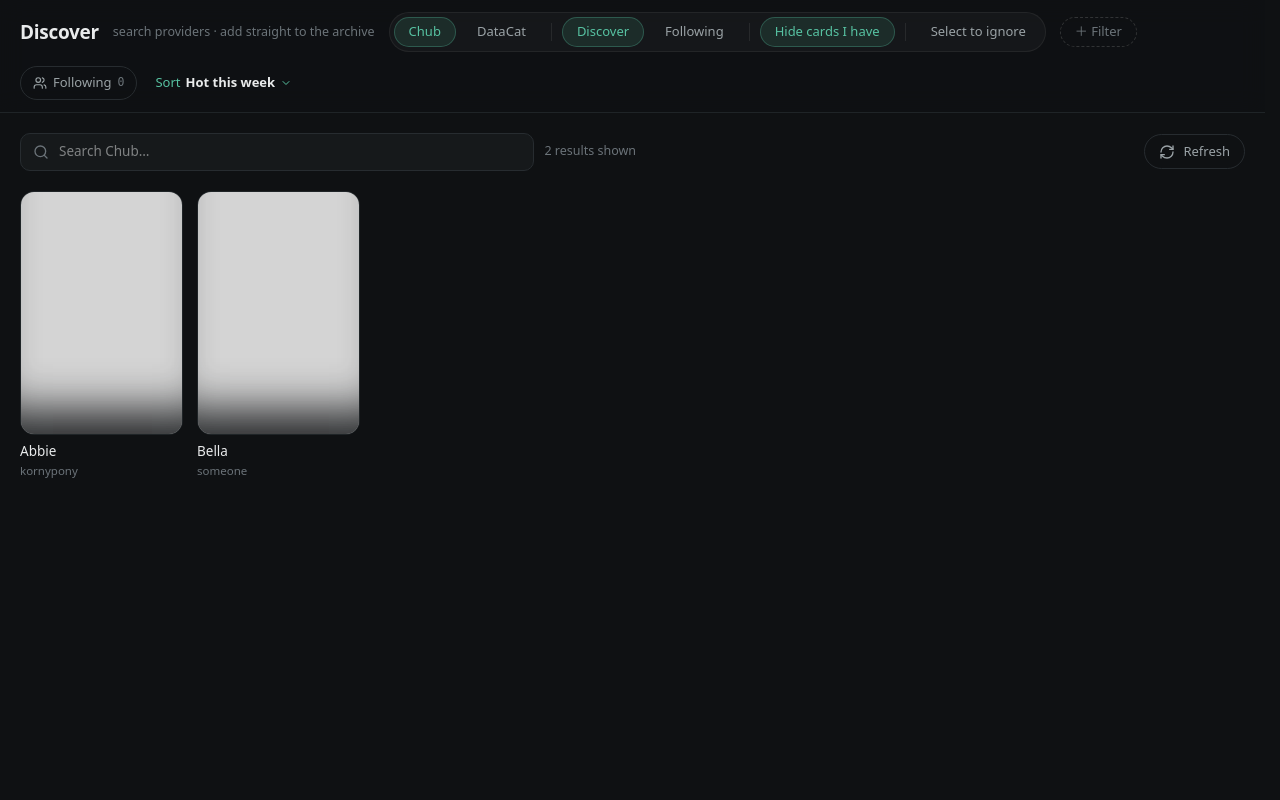
Test: marking cards ignored › posts the selected provider ids and hides them
The width and height of the screenshot is (1280, 800).
Expected: the heading "Abbie" is shown, [20, 442, 56, 460]
What coordinates should you click on to do the following:
click the button "Select to ignore"
I would click on:
 (978, 32)
Its box is [916, 17, 1041, 47].
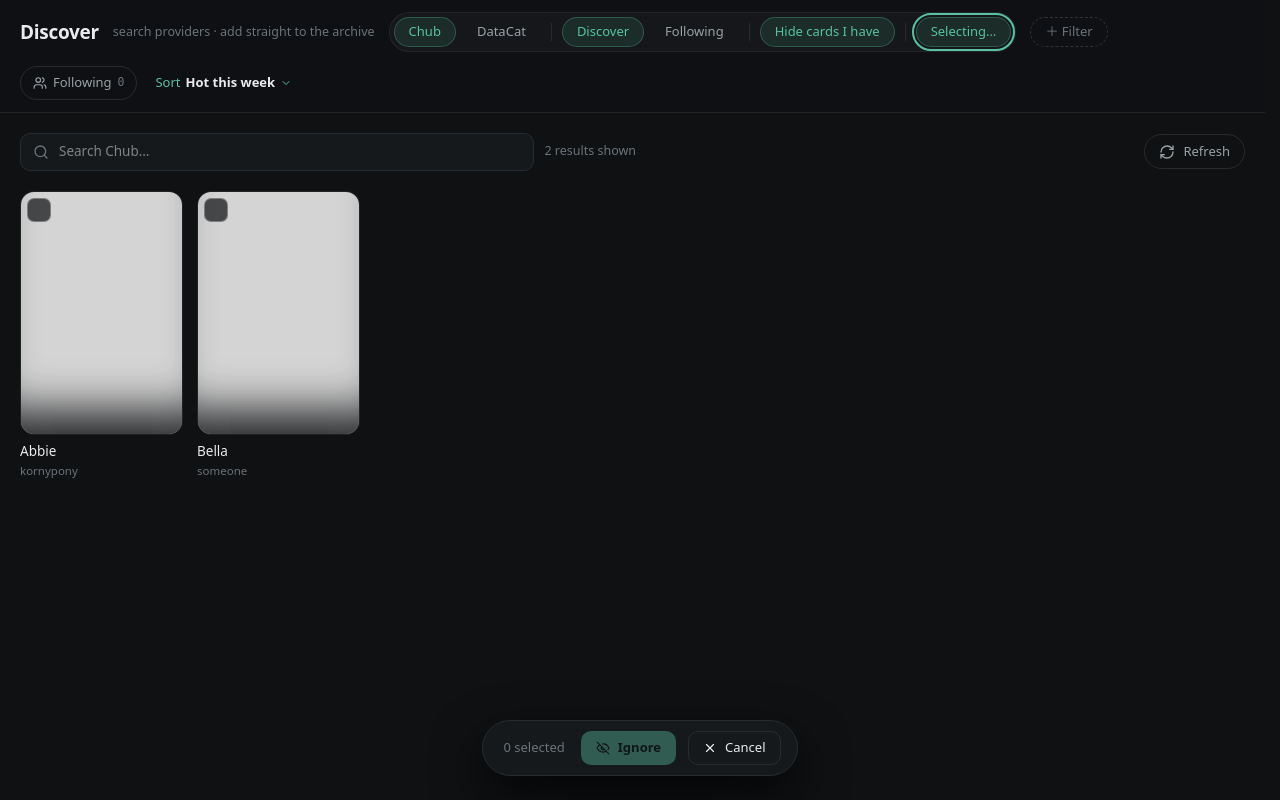
What coordinates should you click on to do the following:
click the heading "Abbie"
I would click on:
 (38, 451)
Its box is [20, 442, 56, 460].
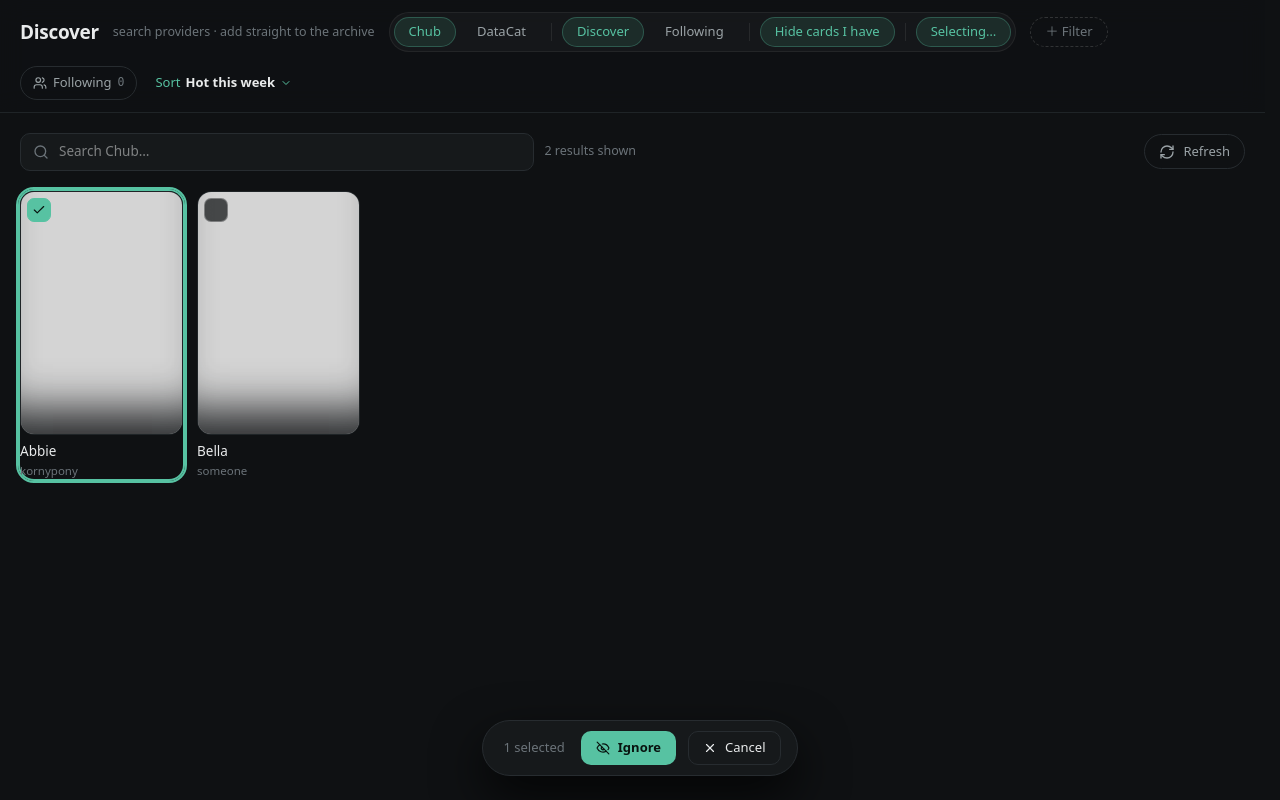
Result: the text "1 selected" is shown at [500, 738, 569, 758]
What coordinates should you click on to do the following:
click the button "Ignore"
I would click on:
 (628, 748)
Its box is [581, 731, 676, 765].
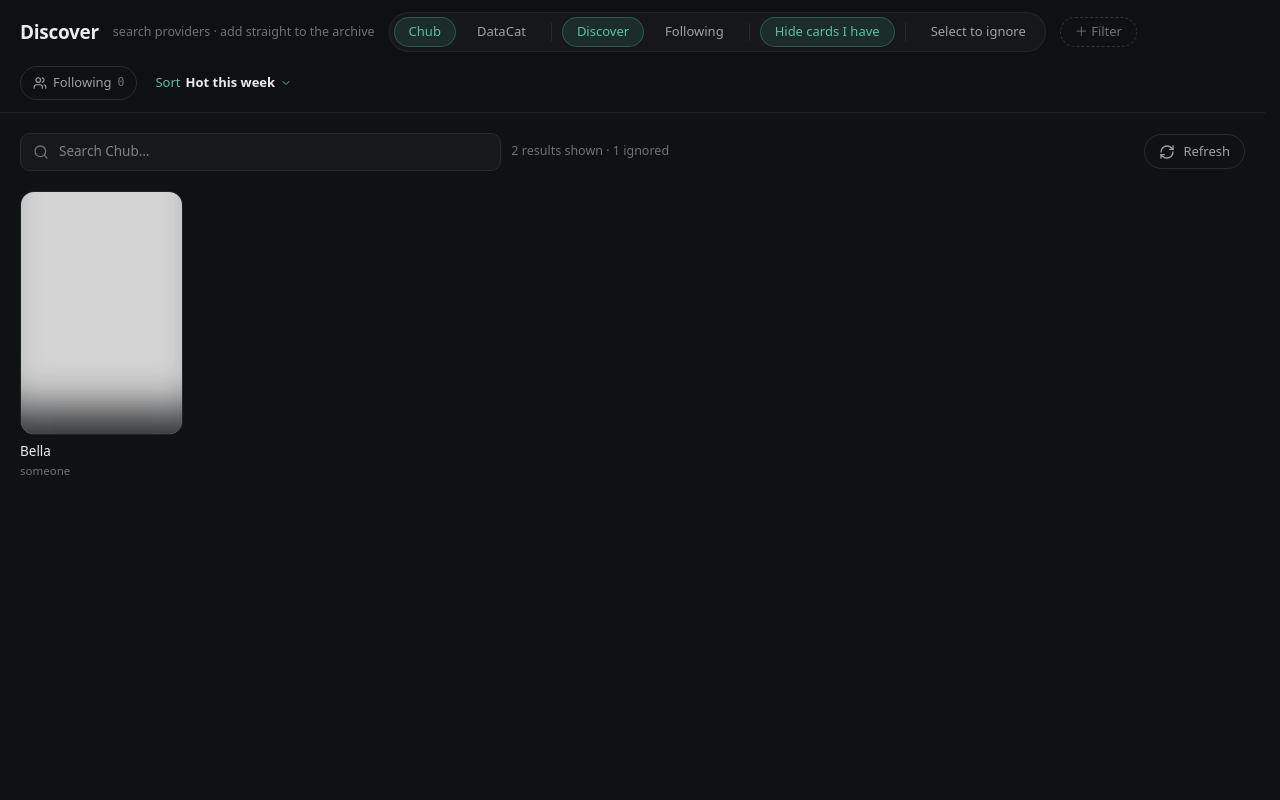
Expected: the heading "Bella" is shown, [20, 442, 51, 460]
Result: the link "Abbie" is gone
Result: the link with class "ring-sage" is gone
